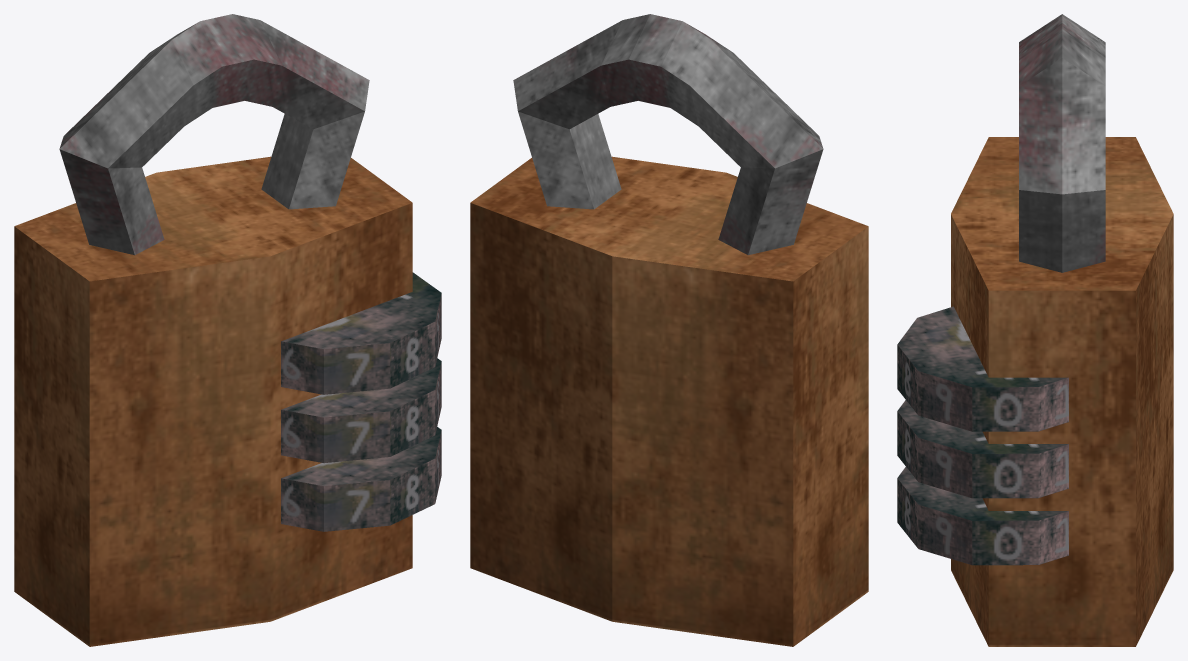
File: lock.fbx
3 views of the same model, side by side, from view 1: azimuth 30°, elevation 25°; view 2: azimuth 150°, elevation 25°; view 3: azimuth 270°, elevation 25° (orthographic). The views are drawn at different scales.
Parts seen in each view (by area): view 1: Plane, Torus, Cylinder, Cylinder.002, Cylinder.001; view 2: Plane, Torus; view 3: Plane, Torus, Cylinder, Cylinder.002, Cylinder.001.
Part boxes in pixels (x1=…): Plane: x1=14, y1=156, x2=412, y2=646; Torus: x1=59, y1=14, x2=369, y2=255; Cylinder: x1=281, y1=272, x2=441, y2=394; Cylinder.002: x1=281, y1=427, x2=441, y2=531; Cylinder.001: x1=281, y1=358, x2=441, y2=463; Plane: x1=470, y1=156, x2=868, y2=646; Torus: x1=513, y1=14, x2=823, y2=255; Plane: x1=951, y1=137, x2=1173, y2=646; Torus: x1=1019, y1=14, x2=1105, y2=272; Cylinder: x1=897, y1=306, x2=1068, y2=431; Cylinder.002: x1=897, y1=467, x2=1068, y2=565; Cylinder.001: x1=897, y1=400, x2=1068, y2=498.
Size of the model in its own units: 213 by 333 by 152.
